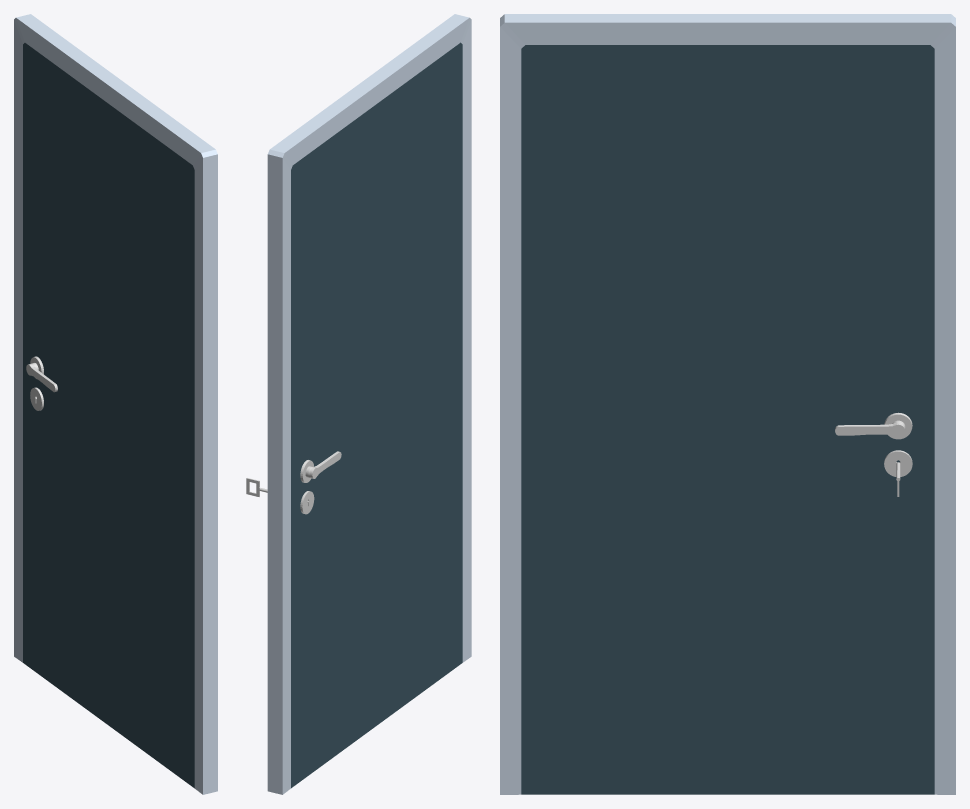
Rendered from Porta_Collection.fbx.
3 renders of one model, left to right at view 1: azimuth 30°, elevation 25°; view 2: azimuth 150°, elevation 25°; view 3: azimuth 270°, elevation 25°, orthographic. The views are drawn at different scales.
Parts seen in each view (by area): view 1: Porta, Frame; view 2: Porta, Frame; view 3: Porta, Frame, Macaneta.
Part boxes in pixels (<box>): Porta: <box>23,43,194,788</box>; Frame: <box>14,14,217,794</box>; Porta: <box>291,42,462,788</box>; Frame: <box>267,14,471,794</box>; Porta: <box>521,45,934,794</box>; Frame: <box>500,14,955,794</box>; Macaneta: <box>835,420,905,436</box>.
Size of the model in its own units: 34.61 by 309 by 165.
